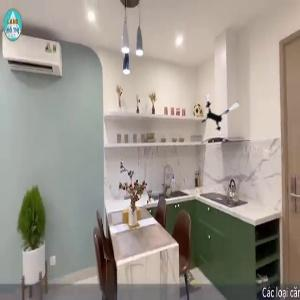drone: (197, 90, 244, 137)
